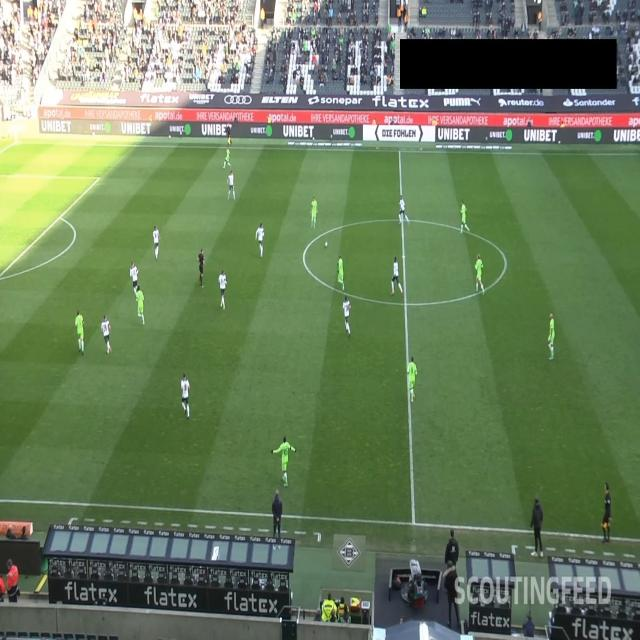ball: (324, 241, 328, 248)
